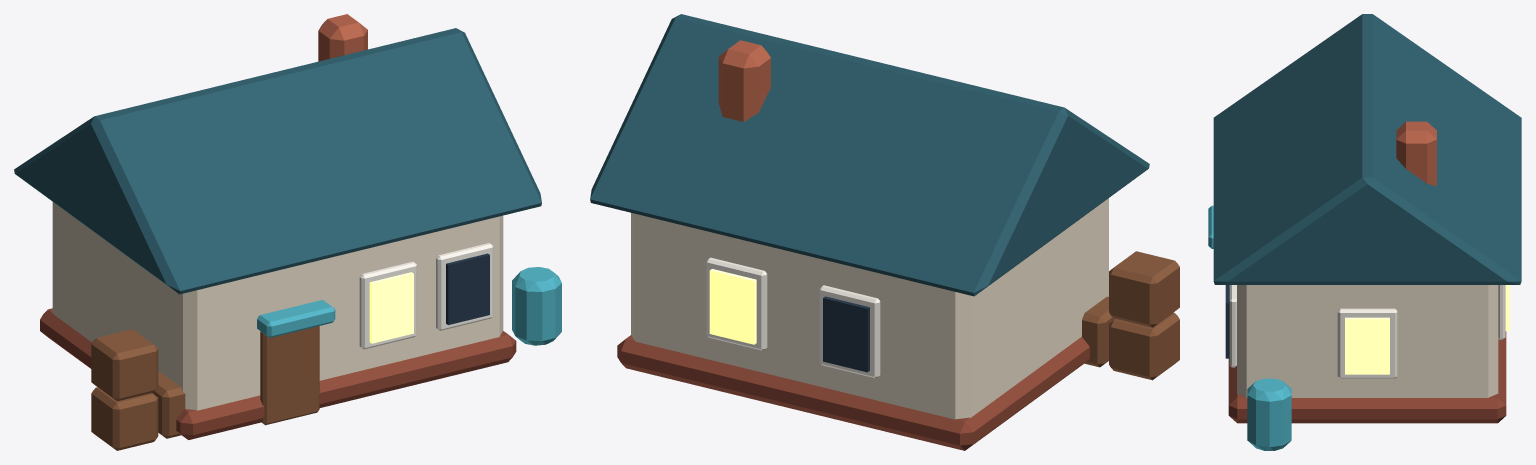
3 views of the same model, side by side, from view 1: azimuth 30°, elevation 25°; view 2: azimuth 150°, elevation 25°; view 3: azimuth 270°, elevation 25° (orthographic). The views are drawn at different scales.
Visible parts, largest first — view 1: Cube; view 2: Cube; view 3: Cube.
Boxes of the visible parts, box(x1,y1,x2,y2) form: Cube: box(14, 14, 561, 450); Cube: box(590, 14, 1179, 450); Cube: box(1208, 14, 1521, 450).
Bounding box in the file's own units: 0.5985 × 0.36 × 0.3837.
